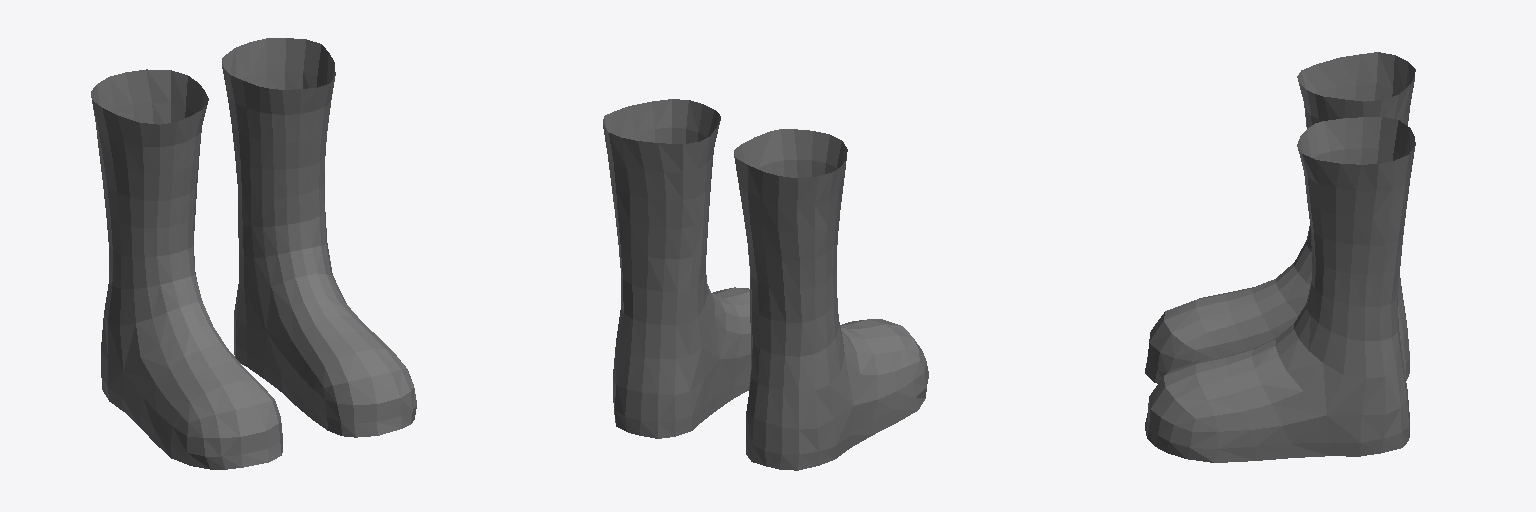
The model's file is LowPoly_Morte_Botas.obj.
The picture shows the model from 3 angles: view 1: azimuth 30°, elevation 25°; view 2: azimuth 150°, elevation 25°; view 3: azimuth 270°, elevation 25°; orthographic projection.
Parts seen in each view (by area): view 1: LowPoly_Morte_Botas; view 2: LowPoly_Morte_Botas; view 3: LowPoly_Morte_Botas.
Part boxes in pixels (x1,y1,x2,y2): LowPoly_Morte_Botas: (91,38,416,469); LowPoly_Morte_Botas: (603,99,928,470); LowPoly_Morte_Botas: (1145,52,1415,462).
Bounding box in the file's own units: 30.12 × 36.66 × 30.07.